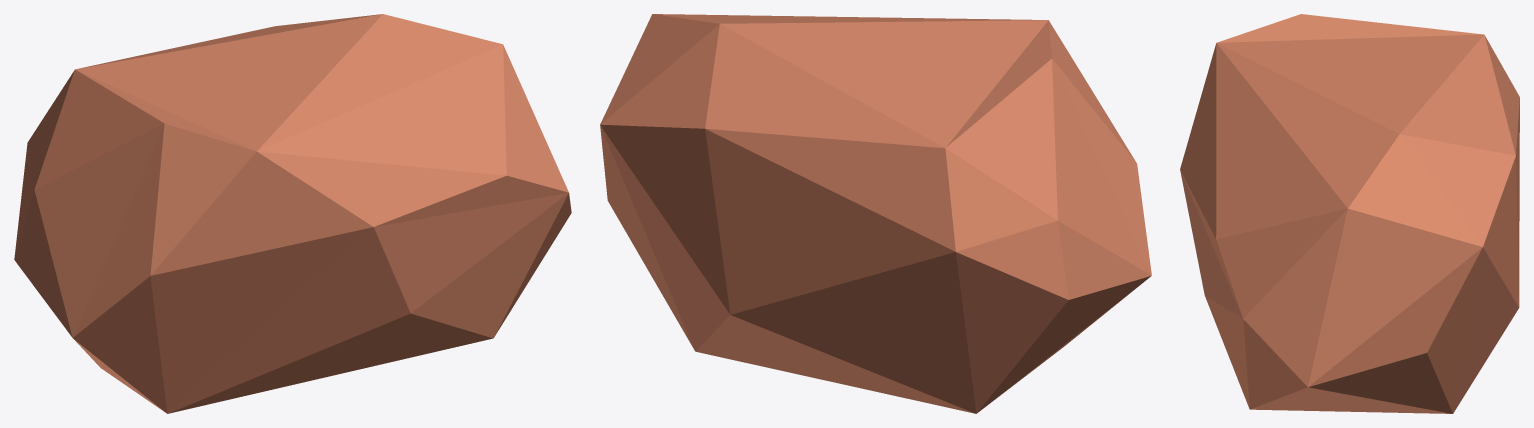
File: Rock_02.fbx
3 renders of one model, left to right at view 1: azimuth 30°, elevation 25°; view 2: azimuth 150°, elevation 25°; view 3: azimuth 270°, elevation 25°, orthographic. The views are drawn at different scales.
Parts seen in each view (by area): view 1: Rock_02; view 2: Rock_02; view 3: Rock_02.
Part boxes in pixels (<box>): Rock_02: <box>14,14,571,413</box>; Rock_02: <box>600,14,1151,413</box>; Rock_02: <box>1180,14,1519,413</box>.
Size of the model in its own units: 13.09 by 7.47 by 8.03.
